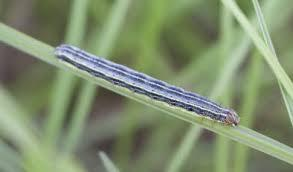fallarmy_worm: (52, 39, 243, 128)
